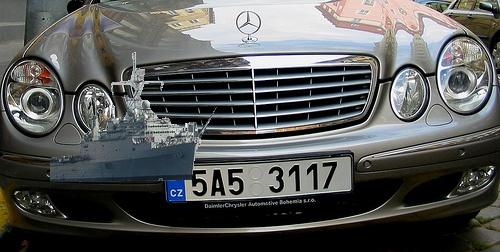tampered: (51, 53, 217, 182)
